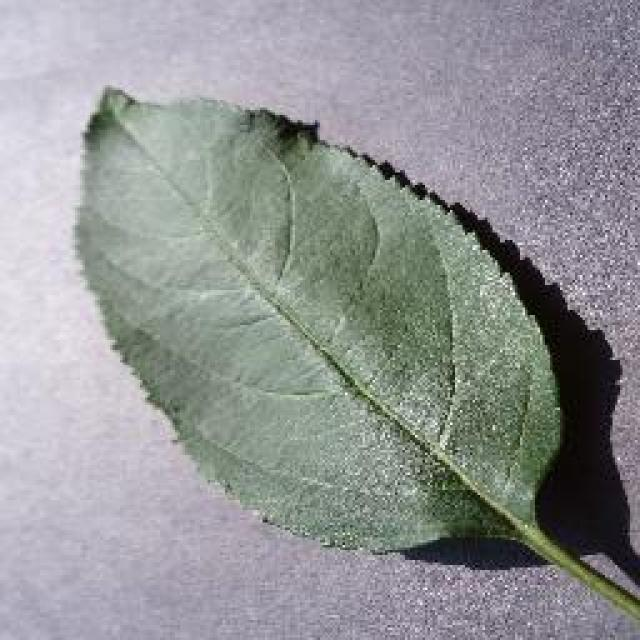apple healthy: (70, 80, 638, 638)
